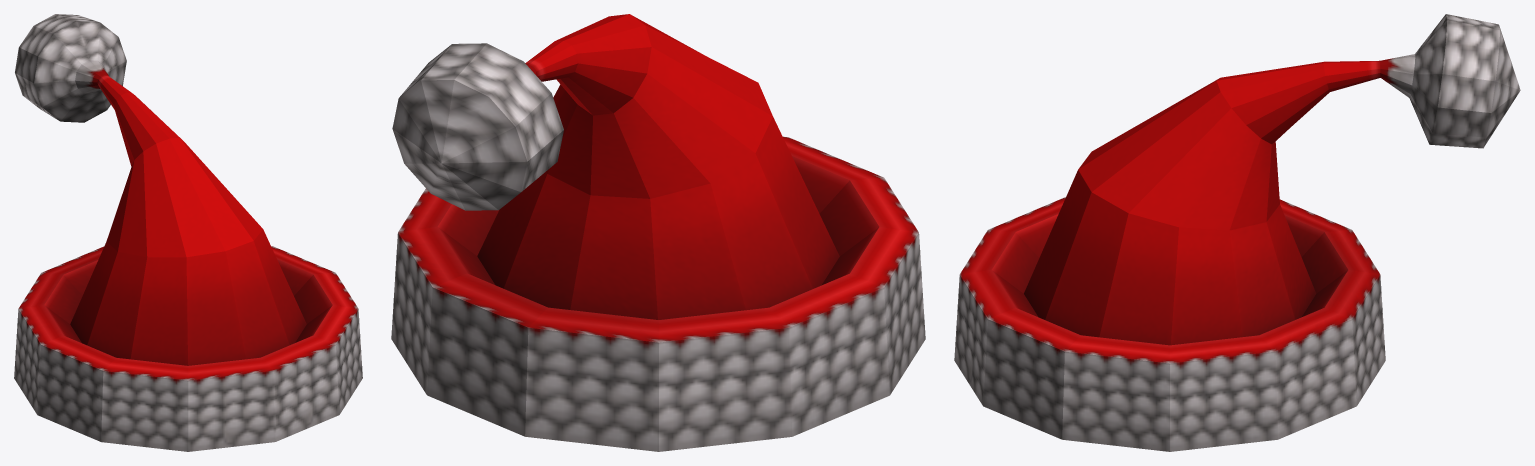
File: ChristmasHat.FBX
The picture shows the model from 3 angles, left to right: view 1: azimuth 30°, elevation 25°; view 2: azimuth 150°, elevation 25°; view 3: azimuth 270°, elevation 25°; orthographic projection. The views are drawn at different scales.
Visible parts, largest first — view 1: Object576; view 2: Object576; view 3: Object576.
Part boxes in pixels (<box>): Object576: <box>14,14,362,451</box>; Object576: <box>391,14,925,451</box>; Object576: <box>954,14,1520,451</box>.
Bounding box in the file's own units: 31.78 × 27.63 × 41.64.
1 material, 1 textured.
